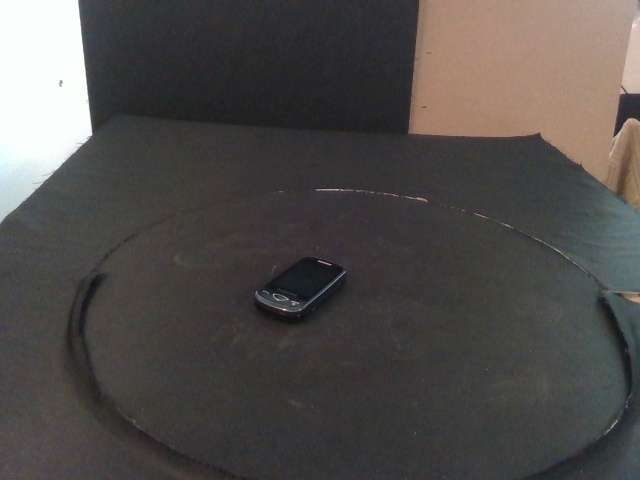phone: (253, 256, 347, 324)
